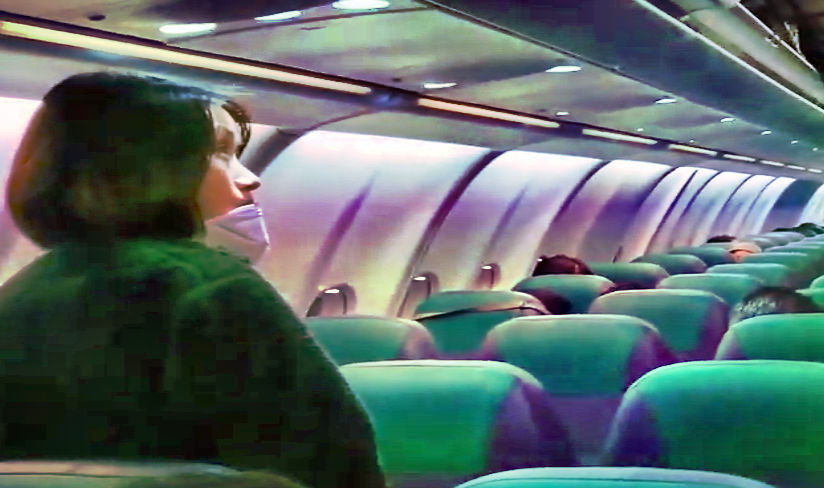mask_weared_incorrect: (112, 68, 274, 265)
